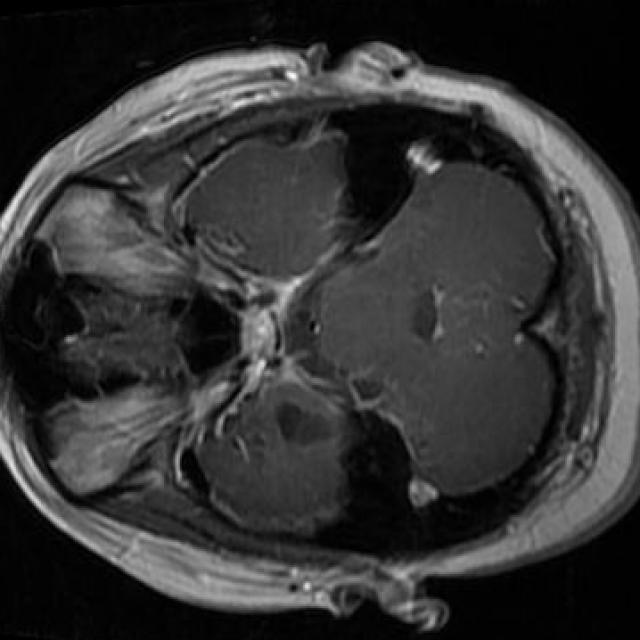glioma: (276, 403, 332, 447)
